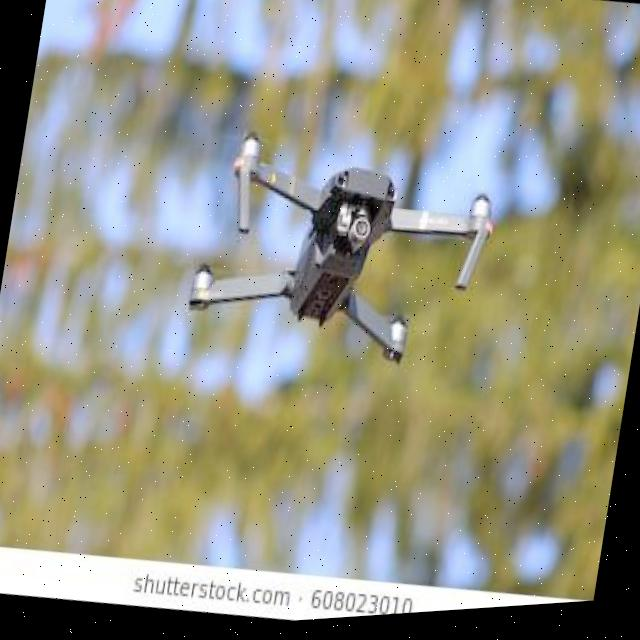drone: (0, 157, 640, 640)
